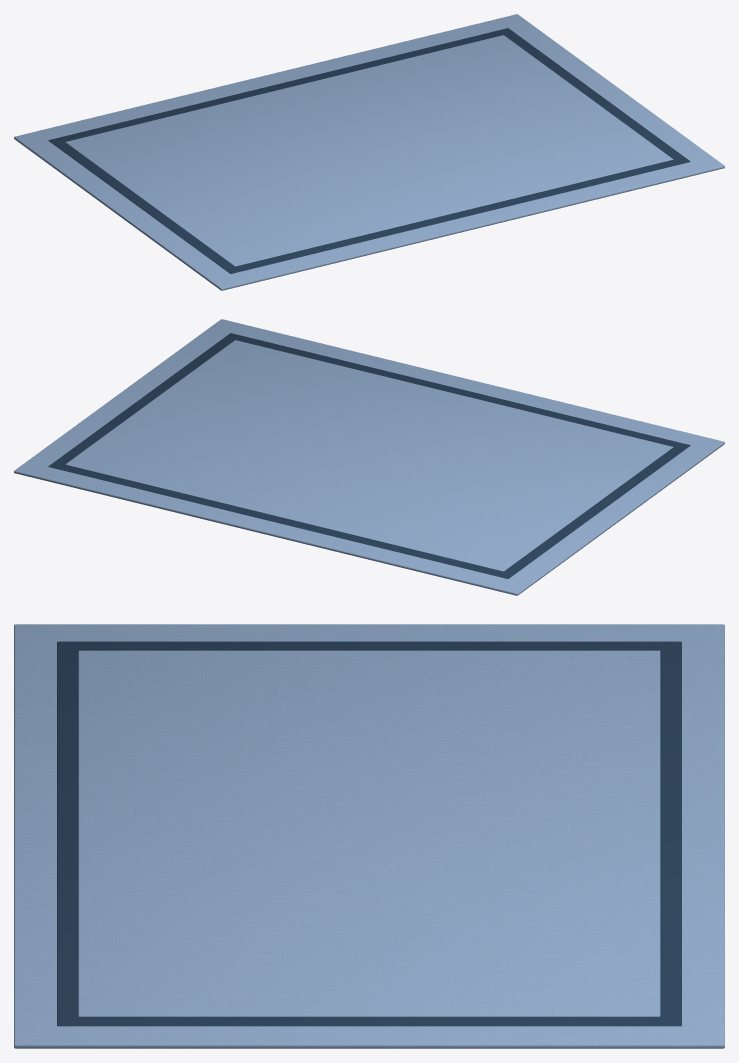
The model's file is lib_rug_woven_aaa-05cd9a00824b.glb.
3 renders of one model, top to bottom at view 1: azimuth 30°, elevation 25°; view 2: azimuth 150°, elevation 25°; view 3: azimuth 270°, elevation 25°, orthographic. The views are drawn at different scales.
Parts seen in each view (by area): view 1: Mesh_Oatmeal_Linen, Rug_Border; view 2: Mesh_Oatmeal_Linen, Rug_Border; view 3: Mesh_Oatmeal_Linen, Rug_Border.
Part boxes in pixels (bbox=[...]): Mesh_Oatmeal_Linen: bbox=[14, 14, 724, 290]; Rug_Border: bbox=[48, 28, 690, 273]; Mesh_Oatmeal_Linen: bbox=[14, 319, 724, 595]; Rug_Border: bbox=[48, 333, 690, 578]; Mesh_Oatmeal_Linen: bbox=[14, 624, 724, 1048]; Rug_Border: bbox=[57, 641, 681, 1026].
Size of the model in its own units: 2.8 by 0.0171 by 2.
Materials: 2 (1 with a texture image).
